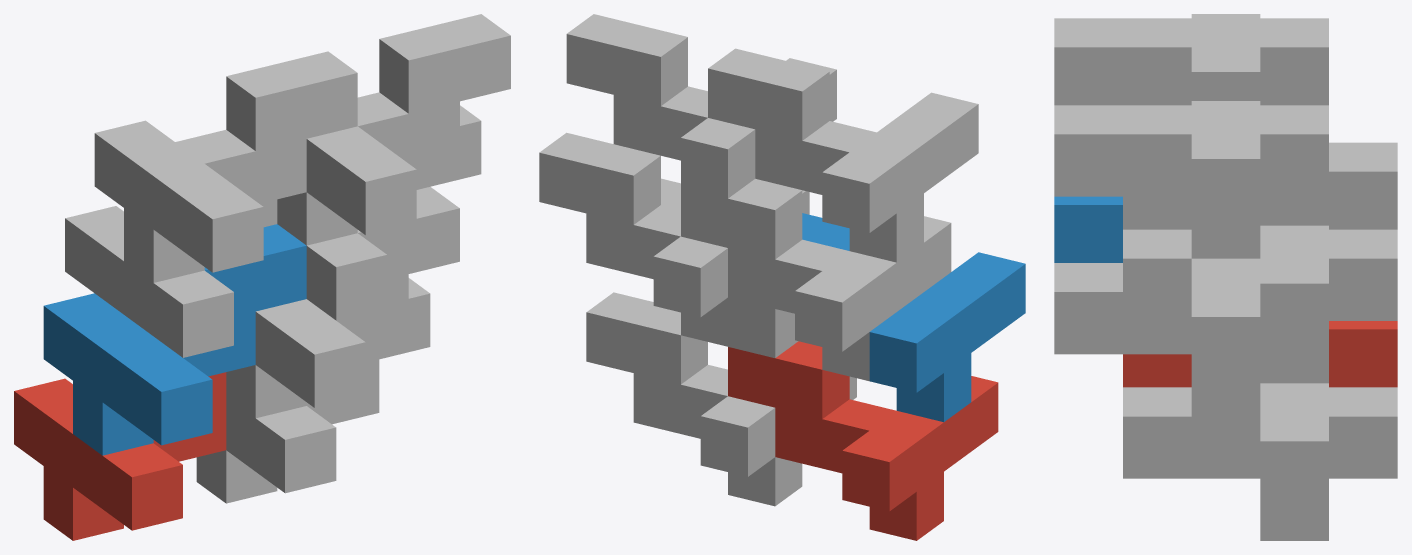
File: tiling.obj
3 views of the same model, side by side, from view 1: azimuth 30°, elevation 25°; view 2: azimuth 150°, elevation 25°; view 3: azimuth 270°, elevation 25° (orthographic). The views are drawn at different scales.
Parts seen in each view (by area): view 1: copy_1_domain_4, copy_1_domain_8, copy_1_domain_2, copy_1_domain_6, copy_1_domain_1, copy_1_domain_5, copy_1_domain_3, copy_1_domain_7; view 2: copy_1_domain_4, copy_1_domain_1, copy_1_domain_3, copy_1_domain_5, copy_1_domain_7, copy_1_domain_8, copy_1_domain_2, copy_1_domain_6; view 3: copy_1_domain_8, copy_1_domain_5, copy_1_domain_4, copy_1_domain_7, copy_1_domain_6, copy_1_domain_3, copy_1_domain_1, copy_1_domain_2.
Boxes of the visible parts, x1,y1,x2,y2 form: copy_1_domain_4: (94,51,357,282); copy_1_domain_8: (277,14,510,245); copy_1_domain_2: (43,224,306,455); copy_1_domain_6: (226,186,459,418); copy_1_domain_1: (14,372,226,540); copy_1_domain_5: (196,278,430,503); copy_1_domain_3: (65,199,277,357); copy_1_domain_7: (306,105,481,320); copy_1_domain_4: (708,48,978,262); copy_1_domain_1: (728,341,998,540); copy_1_domain_3: (681,178,951,381); copy_1_domain_5: (586,292,856,506); copy_1_domain_7: (539,132,809,346); copy_1_domain_8: (566,14,836,198); copy_1_domain_2: (802,213,1025,422); copy_1_domain_6: (661,178,798,357); copy_1_domain_8: (1054,101,1328,258); copy_1_domain_5: (1123,383,1397,540); copy_1_domain_4: (1054,14,1328,105); copy_1_domain_7: (1123,225,1397,383); copy_1_domain_6: (1054,258,1260,416); copy_1_domain_3: (1123,142,1397,229); copy_1_domain_1: (1123,321,1397,387); copy_1_domain_2: (1054,196,1122,262).
Bounding box in the file's own units: 8 × 8 × 5.
